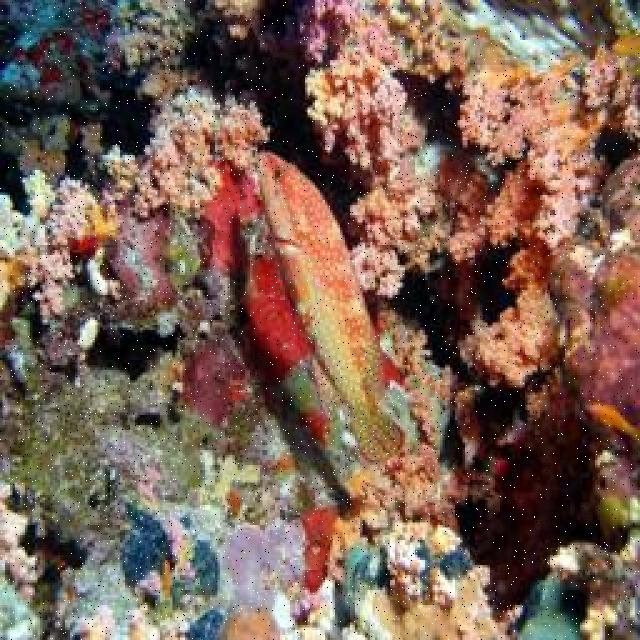fish: (259, 154, 407, 462), (243, 228, 370, 498), (586, 403, 638, 440)
reefs: (365, 0, 638, 386), (0, 86, 275, 326), (296, 0, 498, 298), (556, 152, 638, 432), (346, 517, 522, 638), (122, 506, 219, 621), (221, 518, 305, 615), (202, 155, 260, 271), (0, 500, 44, 603), (304, 507, 336, 594), (86, 243, 124, 301), (225, 610, 278, 638), (184, 610, 228, 638)
sea-floor: (548, 528, 638, 638)
